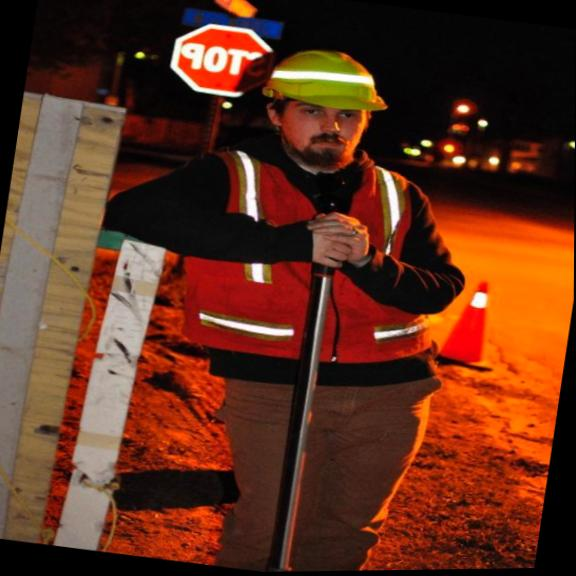safety_vest: (147, 135, 488, 387)
